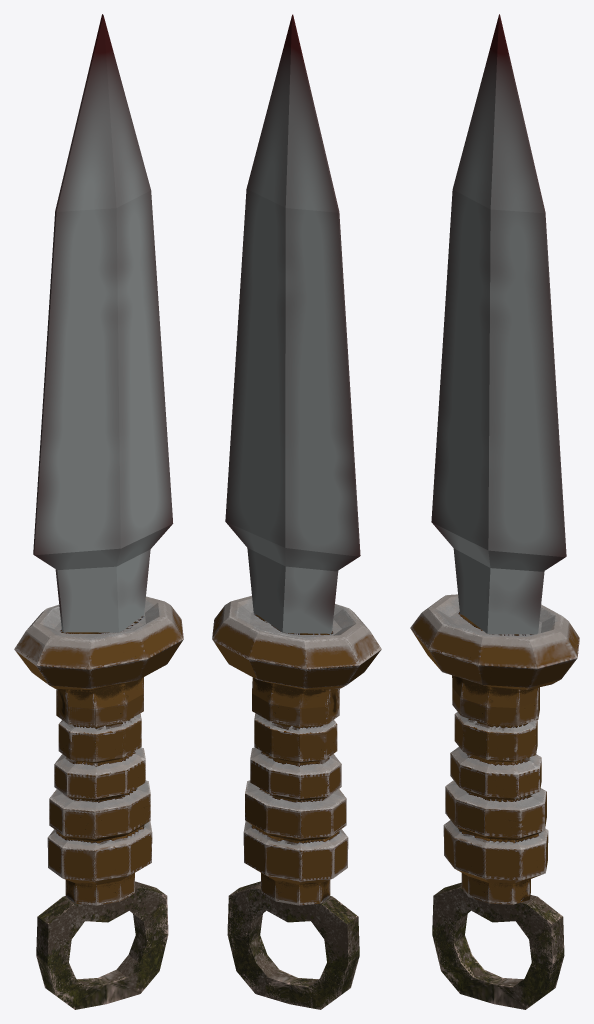
Rendered from hancer.fbx.
3 renders of one model, left to right at view 1: azimuth 30°, elevation 25°; view 2: azimuth 150°, elevation 25°; view 3: azimuth 330°, elevation 25°, orthographic.
Parts seen in each view (by area): view 1: hancer; view 2: hancer; view 3: hancer.
Boxes of the visible parts, x1,y1,x2,y2 form: hancer: [14, 14, 183, 1009]; hancer: [212, 14, 381, 1009]; hancer: [410, 14, 579, 1009].
Bounding box in the file's own units: 49.16 × 296 × 35.03.
1 material, 1 textured.
